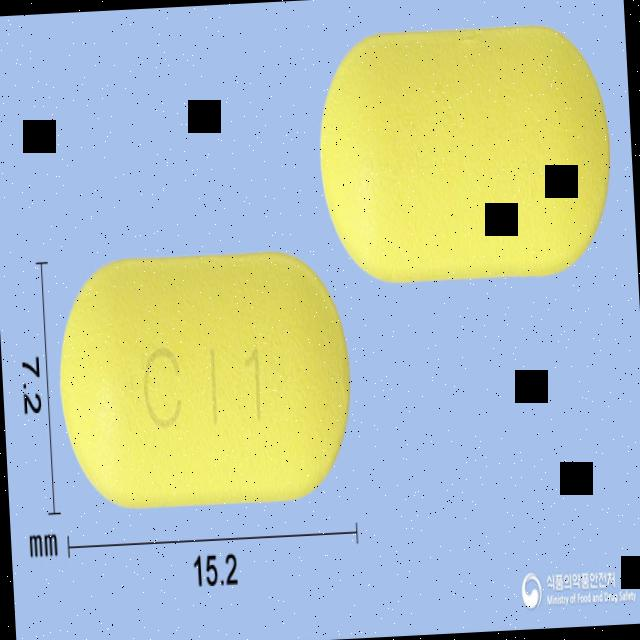Clomycin - 500mg: (51, 243, 357, 512)
